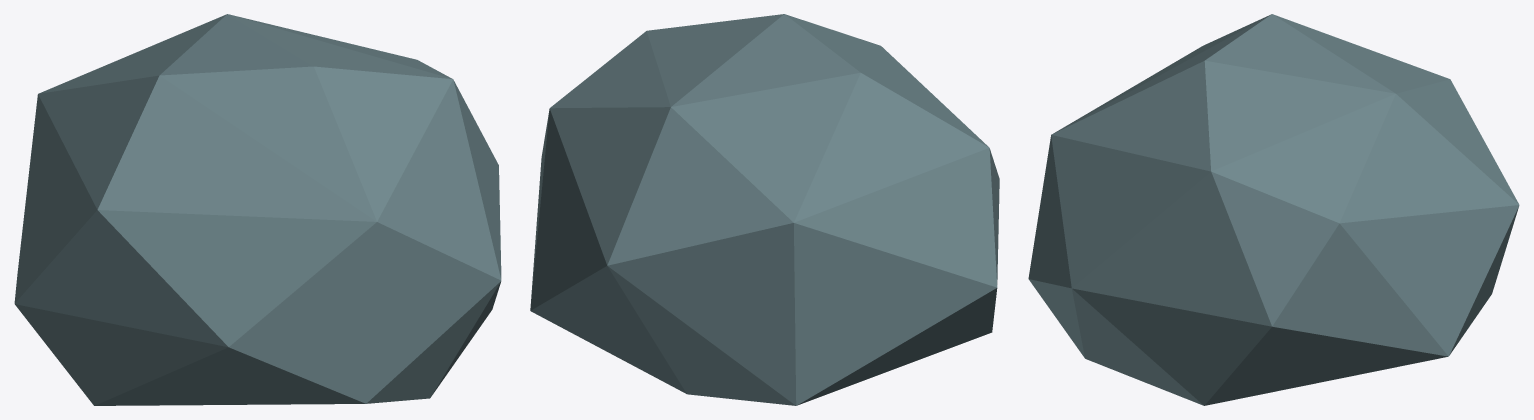
The model's file is stone.fbx.
The picture shows the model from 3 angles, left to right: view 1: azimuth 30°, elevation 25°; view 2: azimuth 150°, elevation 25°; view 3: azimuth 270°, elevation 25°; orthographic projection. The views are drawn at different scales.
Visible parts, largest first — view 1: Icosphere; view 2: Icosphere; view 3: Icosphere.
Boxes of the visible parts, x1,y1,x2,y2 form: Icosphere: [14, 14, 501, 405]; Icosphere: [530, 14, 999, 405]; Icosphere: [1028, 14, 1519, 405].
Size of the model in its own units: 580 by 359 by 551.
